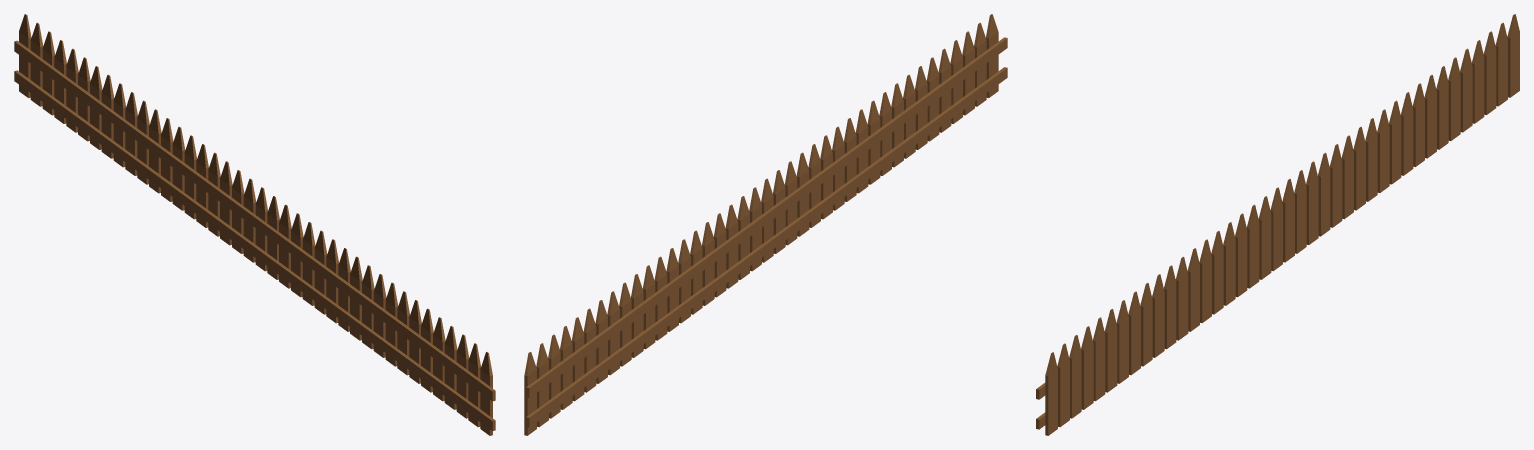
The model's file is FullFence.glb.
The picture shows the model from 3 angles, left to right: view 1: azimuth 30°, elevation 25°; view 2: azimuth 150°, elevation 25°; view 3: azimuth 330°, elevation 25°; orthographic projection.
Parts seen in each view (by area): view 1: Cube.001; view 2: Cube.001; view 3: Cube.001.
Part boxes in pixels (x1,y1,x2,y2): Cube.001: (14, 14, 495, 435); Cube.001: (524, 14, 1007, 435); Cube.001: (1036, 14, 1519, 435).
Size of the model in its own units: 0.3676 by 4.37 by 47.71.
